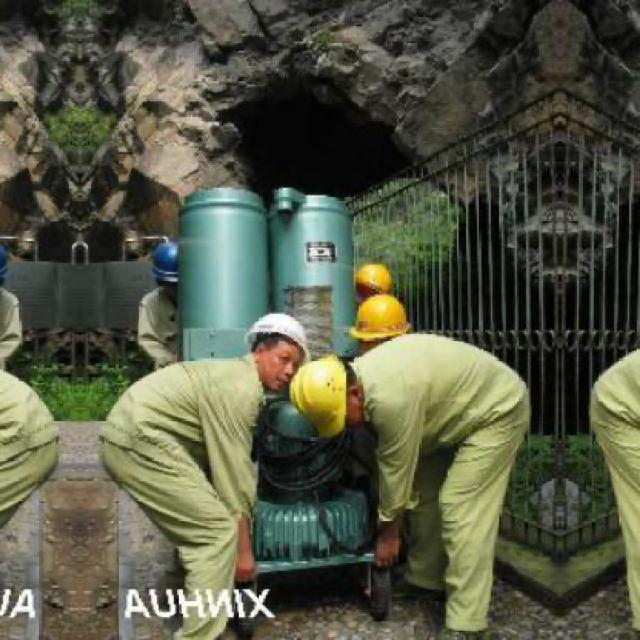con casco: (290, 350, 404, 440), (220, 304, 312, 396)
